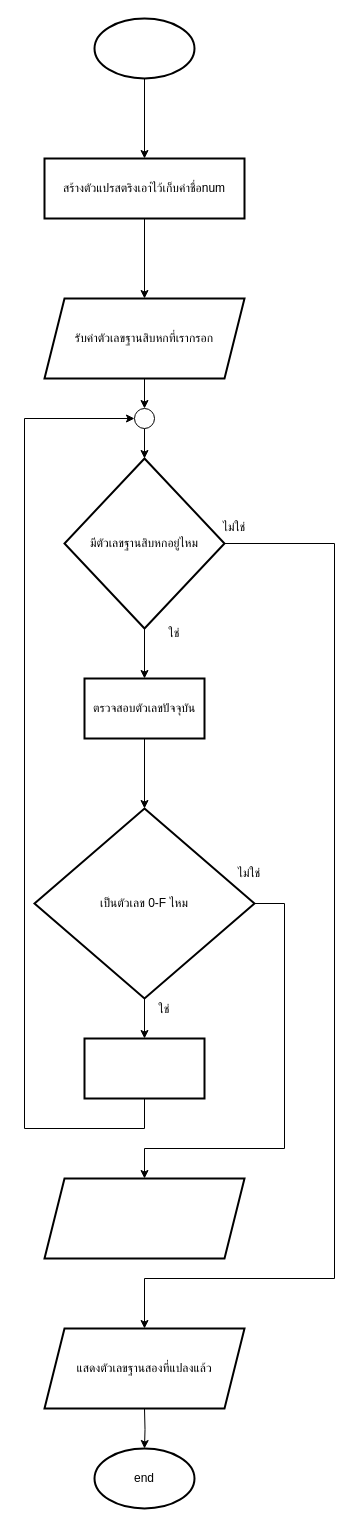
Image size: 360x1526. Some labels were removed from this diagram. Here are the shapes that lost their labels. From the top down, the centre of each, then its label:
pixel 144 48: start
pixel 144 1068: แปลงให้เป็นเลขฐานสอง
pixel 144 1218: ใช้ได้แค่เลฐานสิบหกเท่านั้น
